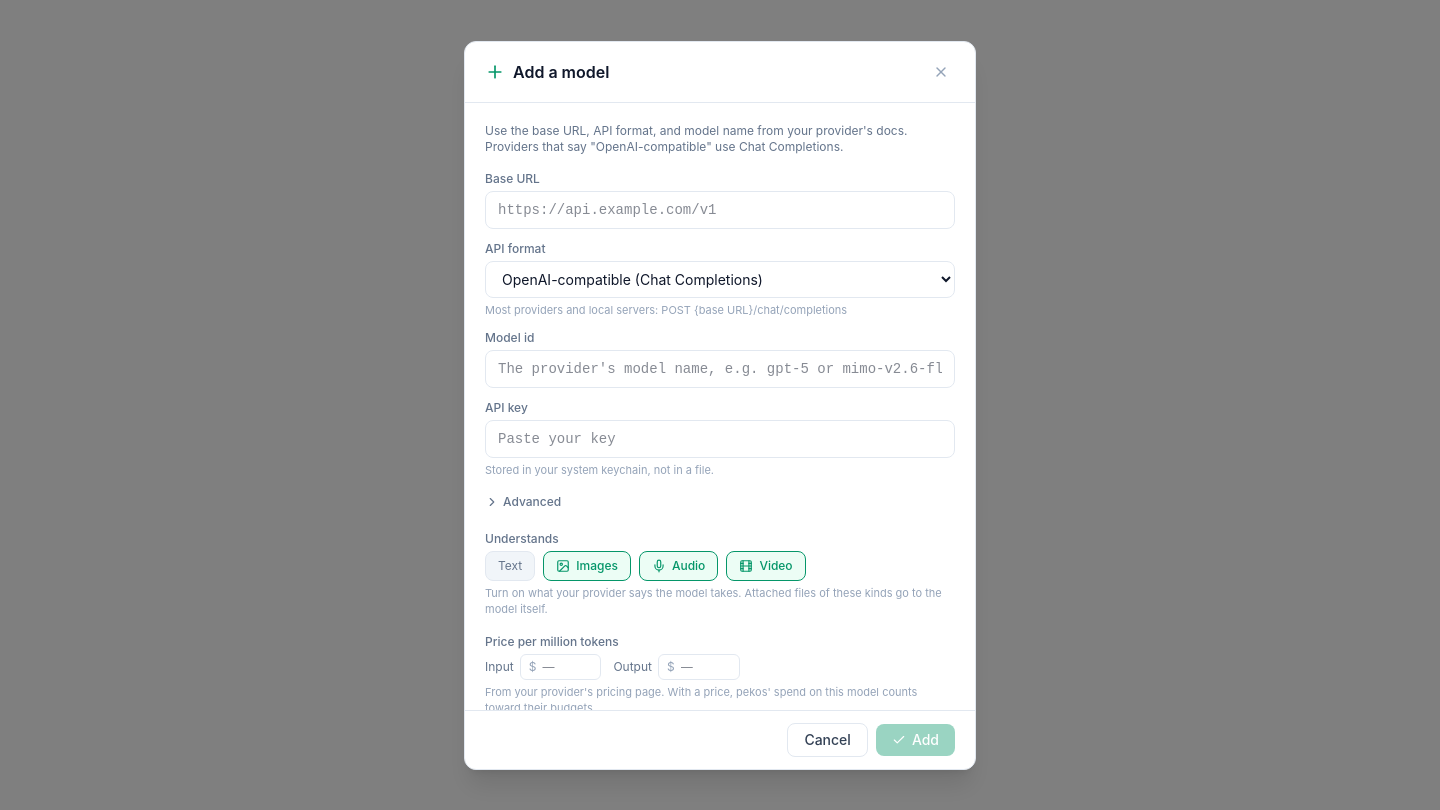
Test: AddModelModal › refuses a bad URL, a bad name, or a name already taken
Type "https://token-plan-cn.xiaomimimo.com/v1" into the field labelled "Base URL" at (720, 210), box [485,190,955,228]
Type "mimo-v2.6-flash" into the field labelled "Model id" at (720, 369), box [485,350,955,388]
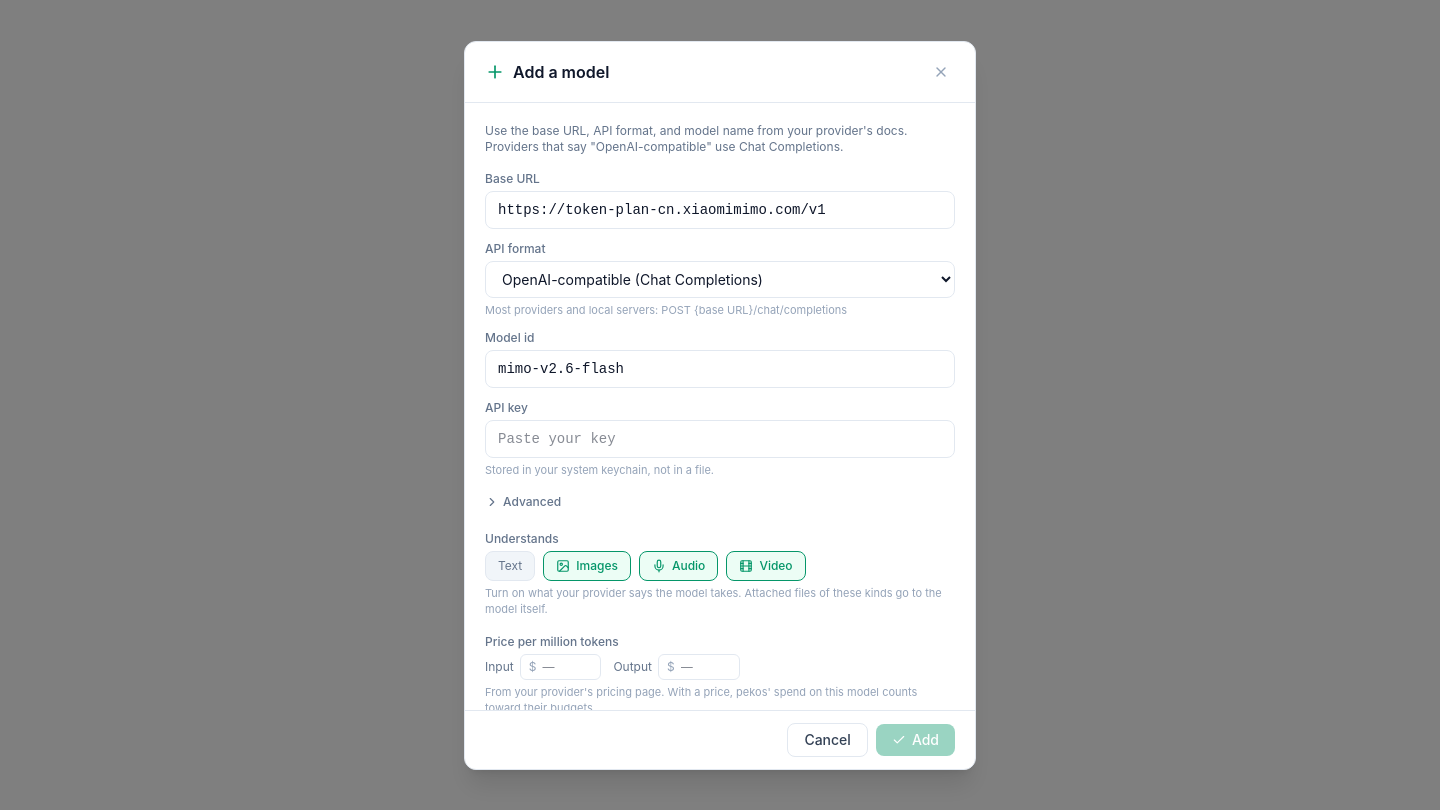
Type " sk-mimo " into the password field labelled "API key" at (720, 439), box [485,420,955,458]
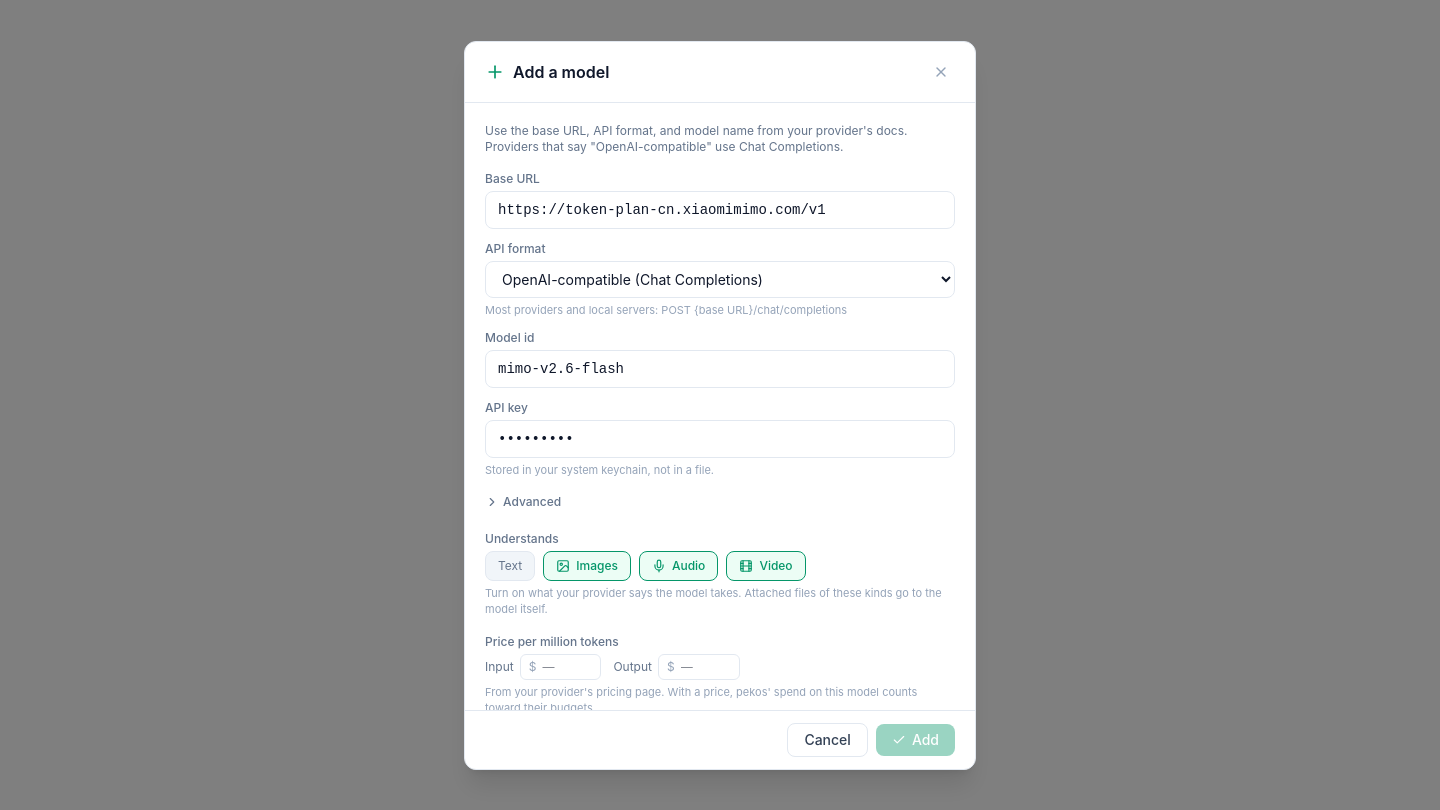
Expected: the button with test id "add-model-submit" is disabled, [876,724,955,756]
Click the button "Advanced" at (523, 502), box [485,494,561,510]
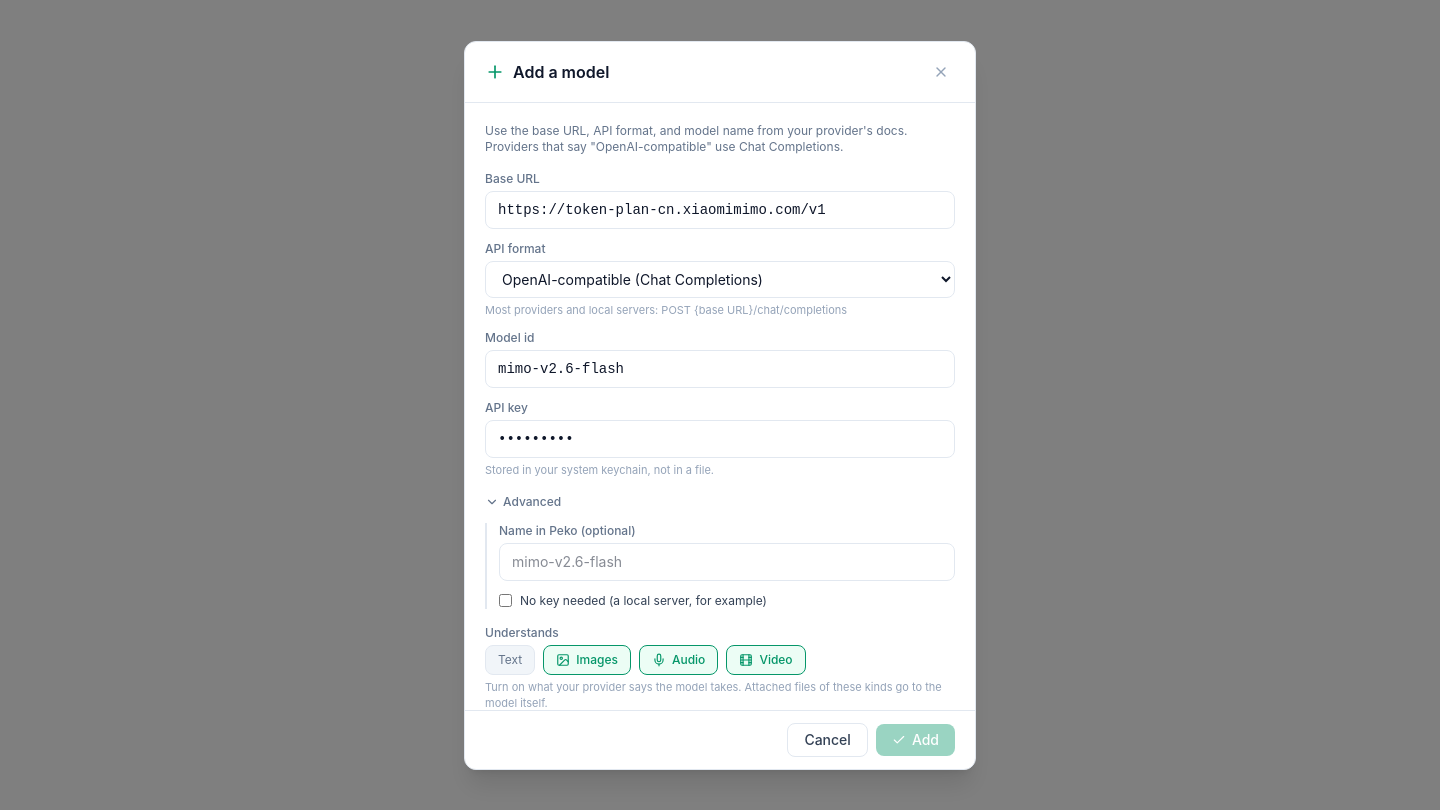
Type "has space" into the field labelled "Name in Peko (optional)" at (727, 562), box [499,542,955,580]
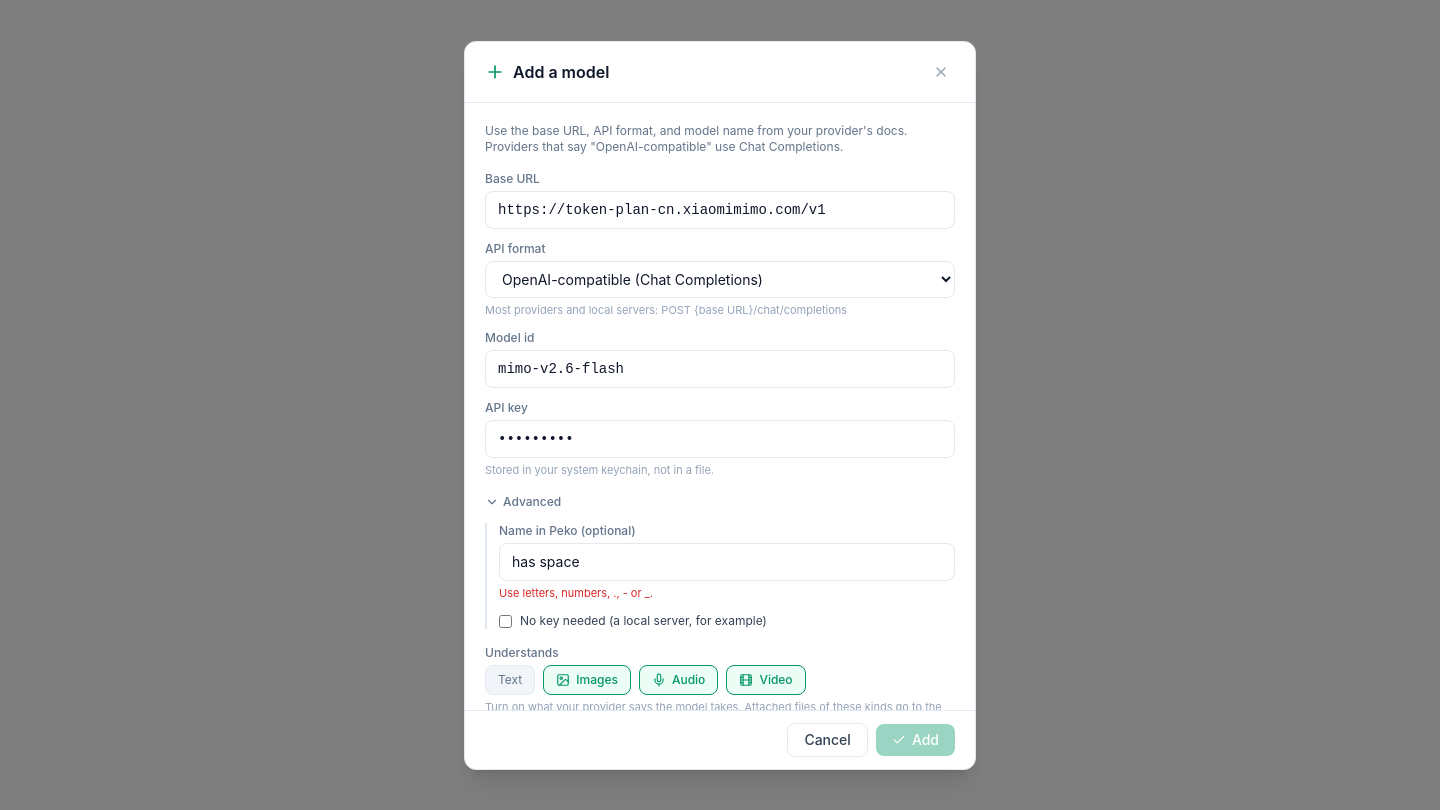
Expected: the button with test id "add-model-submit" is disabled, [876,724,955,756]
Replace the text in the field labelled "Name in Peko (optional)" with "mimo-2" at (727, 562), box [499,542,955,580]
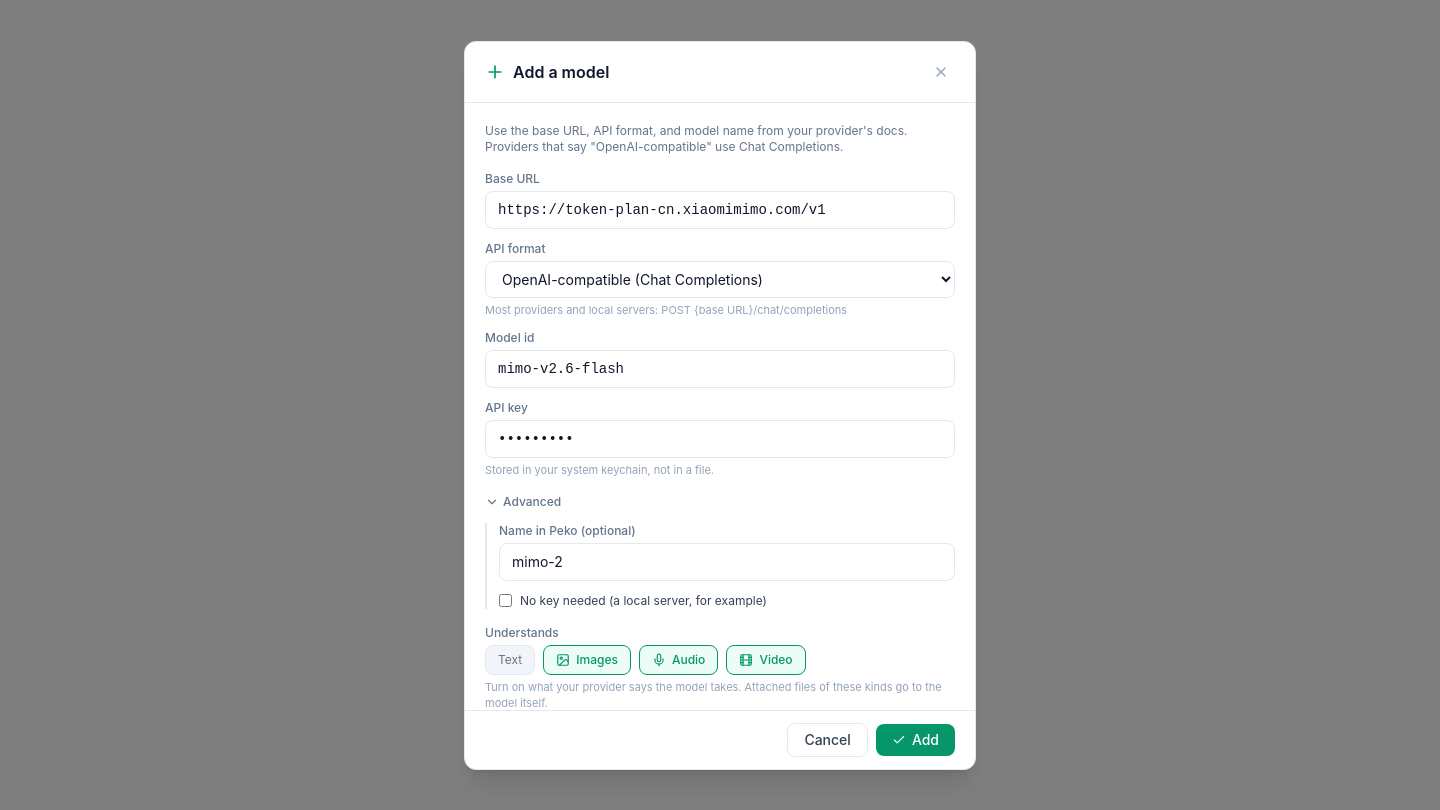
Now the button with test id "add-model-submit" is enabled, box [876,724,955,756]
Replace the text in the field labelled "Base URL" with "not a url" at (720, 210), box [485,190,955,228]
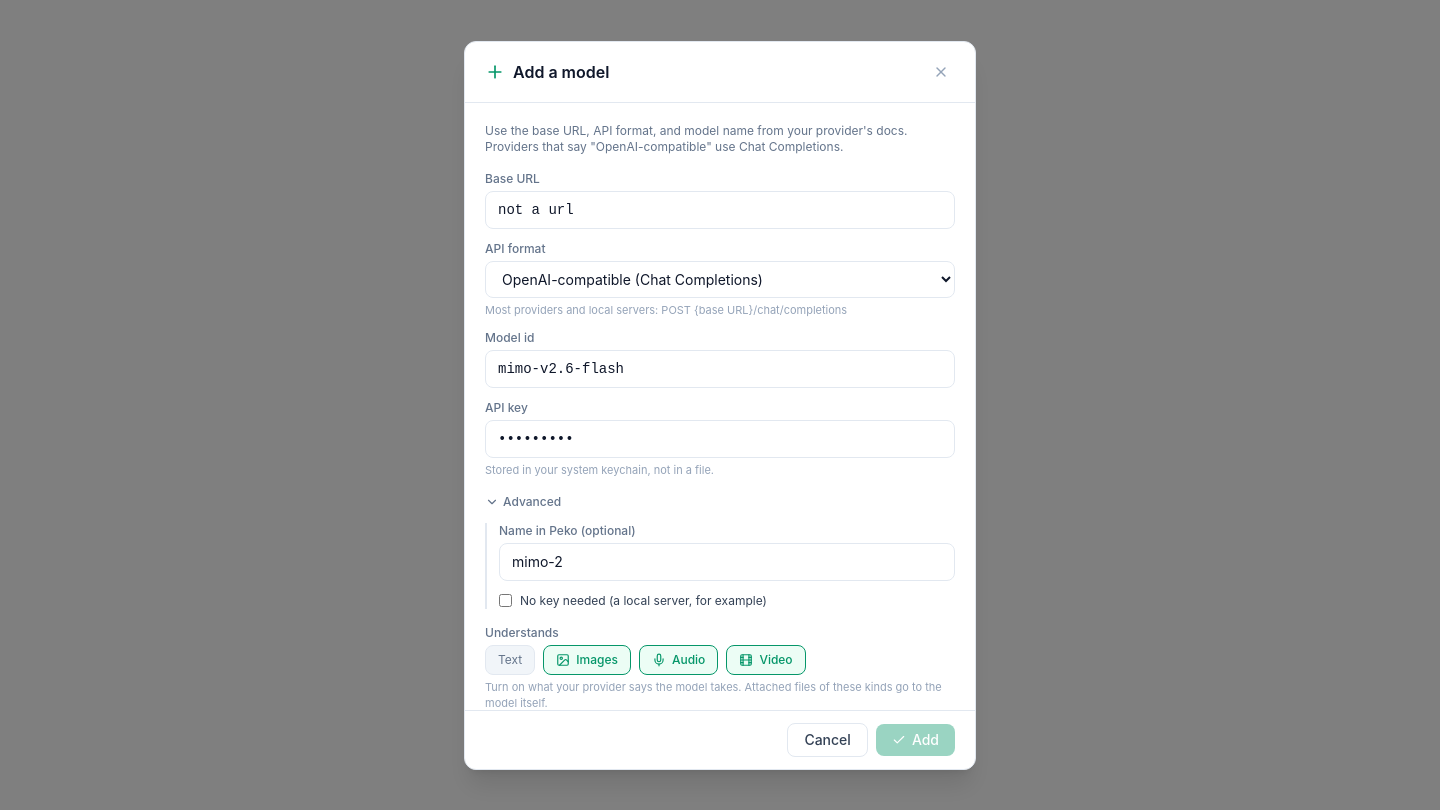
Now the button with test id "add-model-submit" is disabled, box [876,724,955,756]
